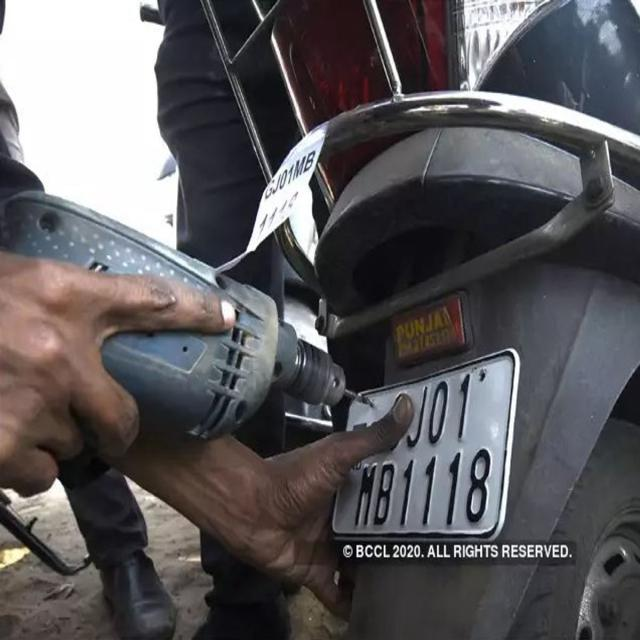plate: (329, 347, 525, 542)
